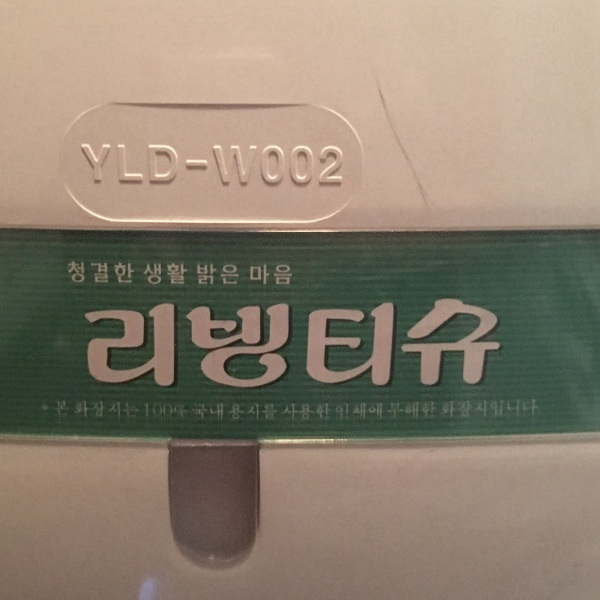text: (81, 296, 96, 395), (97, 296, 112, 395), (113, 296, 128, 395), (129, 296, 144, 395), (145, 296, 160, 395), (161, 296, 176, 395), (177, 296, 192, 395), (193, 296, 208, 395), (209, 296, 224, 395), (225, 296, 240, 395), (241, 296, 256, 395), (257, 296, 272, 395), (273, 296, 288, 395), (289, 296, 304, 395), (305, 296, 320, 395), (321, 296, 336, 395), (337, 296, 352, 395), (353, 296, 368, 395), (369, 296, 384, 395), (385, 296, 400, 395), (401, 296, 416, 395), (417, 296, 432, 395), (433, 296, 448, 395), (449, 296, 464, 395), (465, 296, 480, 395), (481, 296, 496, 395), (497, 296, 506, 395), (81, 142, 96, 190), (97, 142, 112, 190), (113, 142, 128, 190), (129, 142, 144, 190), (145, 142, 160, 190), (161, 142, 176, 190), (177, 142, 192, 190), (193, 142, 208, 190), (209, 142, 224, 190), (225, 142, 240, 190), (241, 142, 256, 190), (273, 143, 288, 187), (289, 143, 304, 187), (305, 143, 320, 187), (321, 143, 336, 187), (261, 143, 272, 187), (449, 396, 464, 421), (465, 396, 480, 421), (481, 396, 496, 421), (497, 396, 512, 421), (513, 396, 528, 421), (81, 261, 96, 285), (97, 261, 112, 285), (113, 261, 128, 285), (257, 262, 272, 286), (273, 262, 288, 286), (145, 263, 160, 286), (161, 263, 176, 286), (209, 263, 224, 286), (81, 399, 96, 421), (97, 399, 112, 421), (113, 399, 128, 421), (529, 396, 542, 421), (225, 263, 239, 286), (401, 400, 416, 421), (417, 400, 432, 421), (337, 402, 352, 423), (353, 402, 368, 423), (369, 402, 384, 423), (257, 402, 272, 423), (193, 402, 208, 423), (209, 402, 224, 423), (225, 402, 240, 423), (67, 261, 80, 285), (337, 143, 344, 187), (145, 401, 160, 421), (161, 401, 176, 421), (49, 398, 64, 418), (386, 400, 400, 421), (289, 402, 304, 421), (305, 402, 320, 421), (177, 263, 189, 286), (177, 401, 190, 421), (197, 263, 208, 286), (246, 402, 256, 423), (321, 402, 332, 421), (440, 396, 448, 421), (129, 399, 138, 421), (257, 142, 260, 190), (129, 261, 135, 285), (250, 262, 256, 286), (41, 398, 48, 418), (74, 399, 80, 421), (273, 402, 279, 423), (65, 398, 71, 418), (433, 400, 438, 421), (289, 262, 293, 286), (241, 402, 245, 423), (285, 402, 288, 421), (335, 402, 336, 423), (191, 402, 192, 423), (143, 401, 144, 421)
